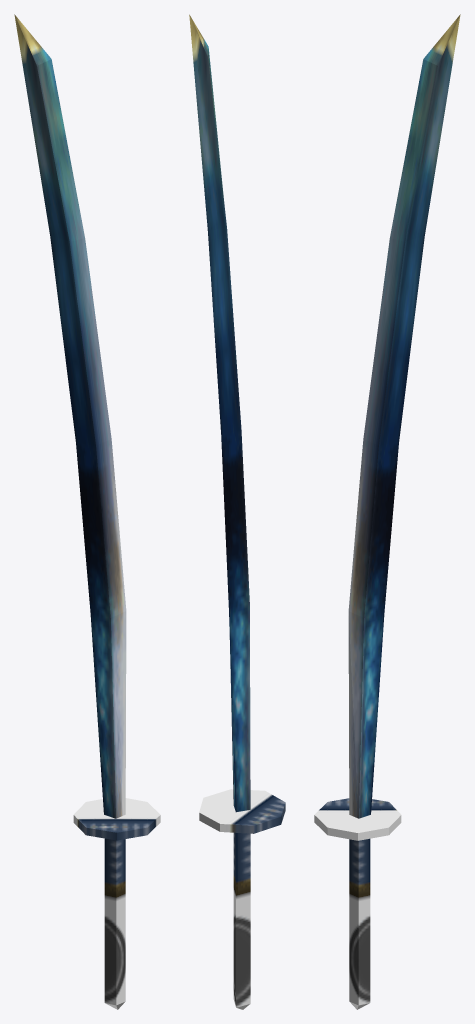
File: heavybladev00_2.obj
3 views of the same model, side by side, from view 1: azimuth 90°, elevation 25°; view 2: azimuth 150°, elevation 25°; view 3: azimuth 270°, elevation 25° (orthographic). The views are drawn at different scales.
Visible parts, largest first — view 1: MDL_cw2hkt00_2; view 2: MDL_cw2hkt00_2; view 3: MDL_cw2hkt00_2.
Part boxes in pixels (x1,y1,x2,y2): MDL_cw2hkt00_2: (14,14,160,1009); MDL_cw2hkt00_2: (189,14,285,1009); MDL_cw2hkt00_2: (314,14,460,1009).
Size of the model in its own units: 0.1388 by 1.77 by 0.235.
